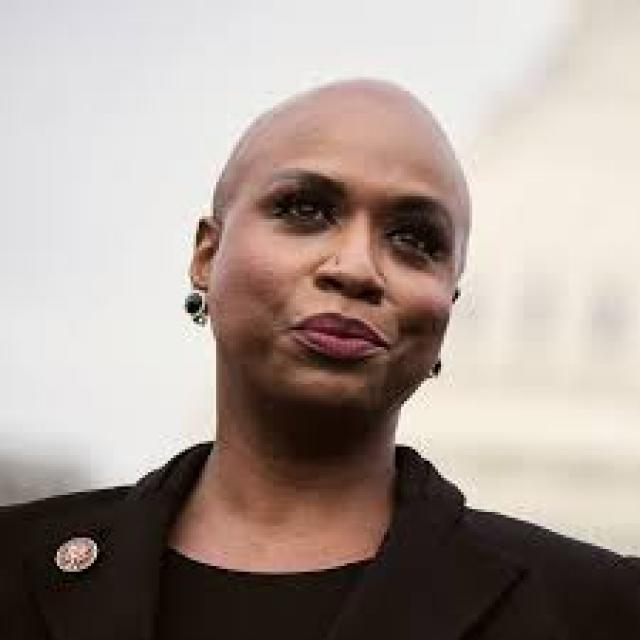bald: (192, 70, 477, 208)
